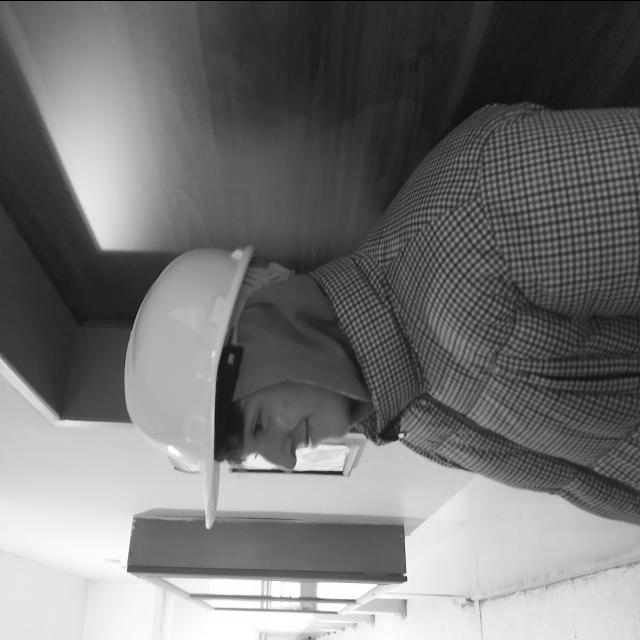construction helmet: (125, 243, 257, 519)
